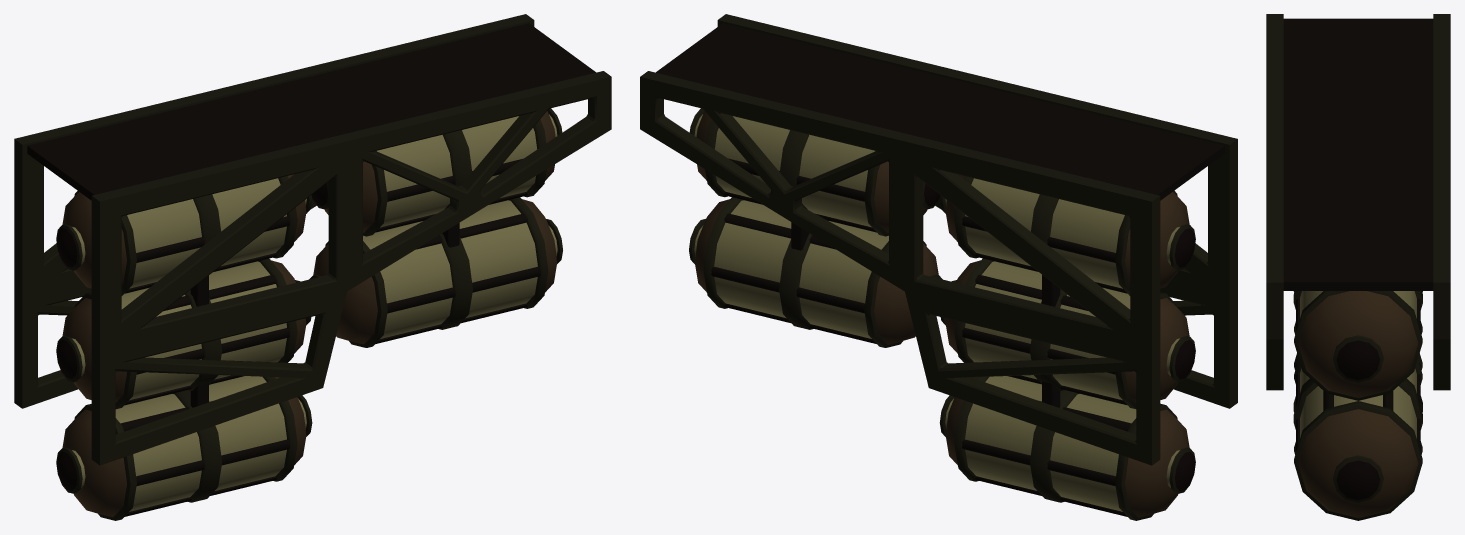
Rendered from OBJ_Corniche_2.fbx.
The picture shows the model from 3 angles, left to right: view 1: azimuth 30°, elevation 25°; view 2: azimuth 150°, elevation 25°; view 3: azimuth 270°, elevation 25°; orthographic projection. The views are drawn at different scales.
Visible parts, largest first — view 1: OBJ_Corniche_1; view 2: OBJ_Corniche_1; view 3: OBJ_Corniche_1.
Part boxes in pixels (<box>): OBJ_Corniche_1: <box>14,14,611,520</box>; OBJ_Corniche_1: <box>640,14,1237,520</box>; OBJ_Corniche_1: <box>1266,14,1450,520</box>.
Bounding box in the file's own units: 5759 × 3848 × 1672.
